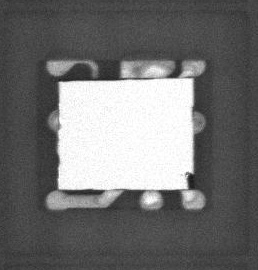DIE_BROKEN: (183, 170, 194, 190)
